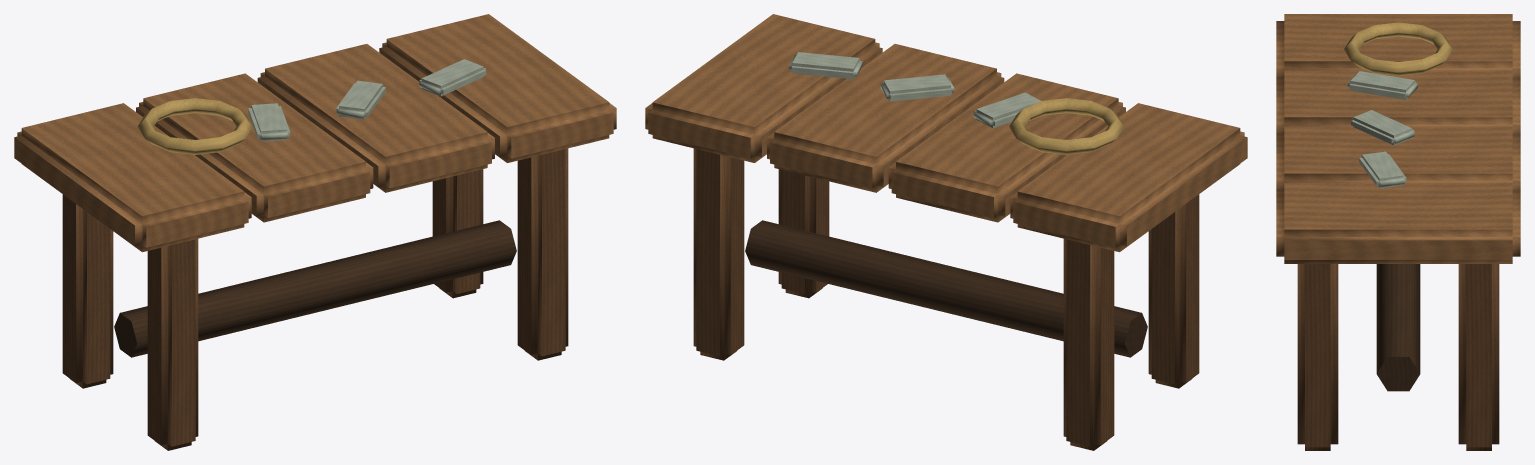
The model's file is table-2.fbx.
3 renders of one model, left to right at view 1: azimuth 30°, elevation 25°; view 2: azimuth 150°, elevation 25°; view 3: azimuth 270°, elevation 25°, orthographic. The views are drawn at different scales.
Visible parts, largest first — view 1: table-2__Geometry; view 2: table-2__Geometry; view 3: table-2__Geometry.
Boxes of the visible parts, x1=… form: table-2__Geometry: x1=14, y1=14, x2=616, y2=450; table-2__Geometry: x1=645, y1=14, x2=1247, y2=450; table-2__Geometry: x1=1276, y1=14, x2=1520, y2=450.
Size of the model in its own units: 1.68 by 0.925 by 0.78.
